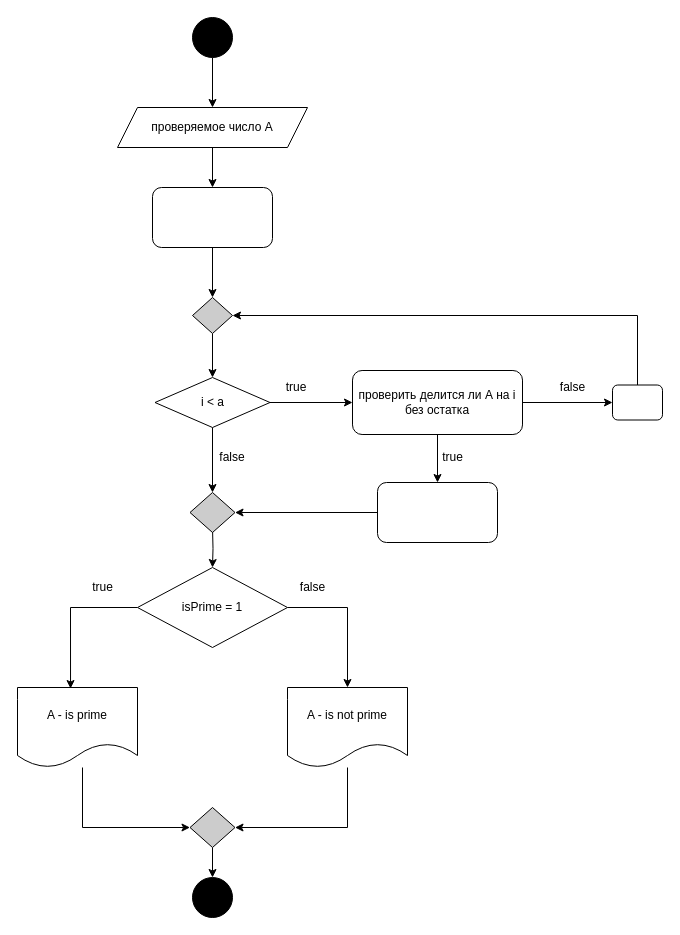
Some shapes in this 680 by 935 pixel diagram are drawn without their labels. The shapes that lost their labels are listed below. From the top down, each one's centre as x and y in pixels, then its label:
At point (212, 217): "флаг isPrime = 1 счётчик i = 2".
At point (637, 402): "i++".
At point (437, 512): "isPrime = 0".
